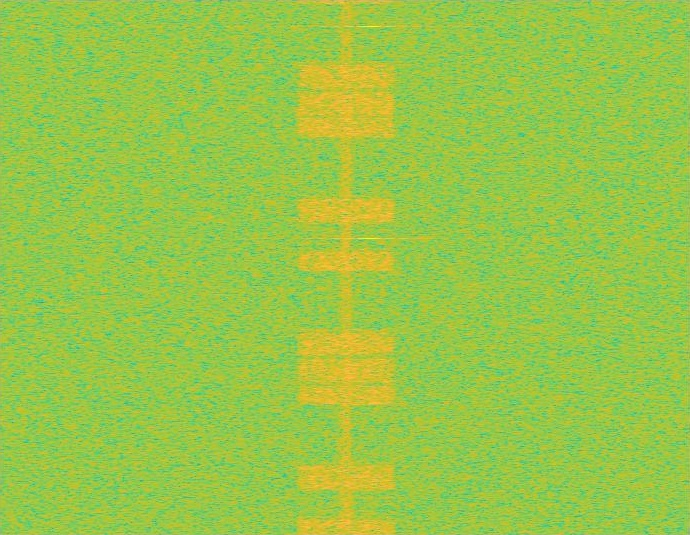DSSS: (339, 0, 353, 534)
LTE: (295, 0, 398, 534)
Radar: (363, 0, 377, 534)
